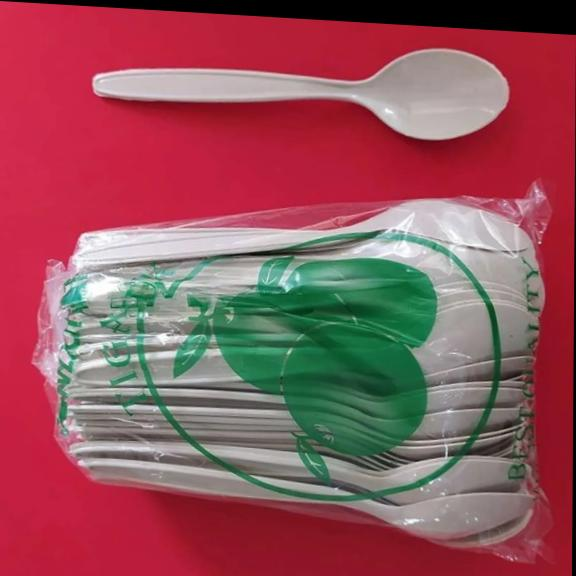Plastik: (93, 47, 509, 139)
